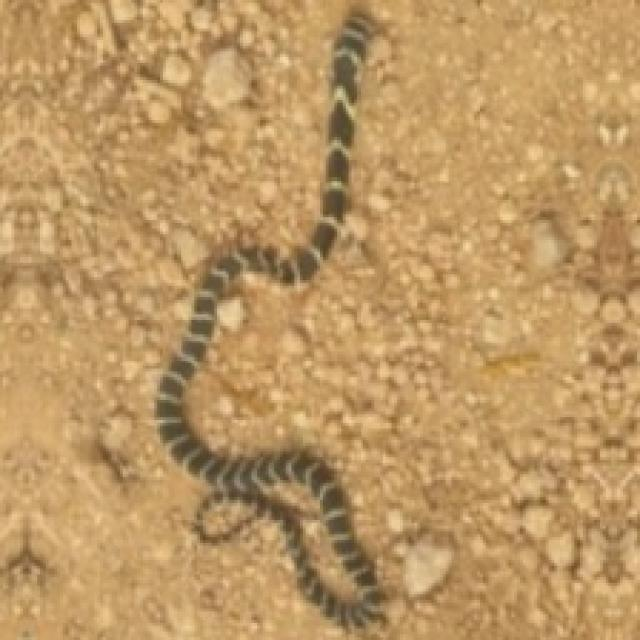king cobra: (154, 11, 380, 626)
